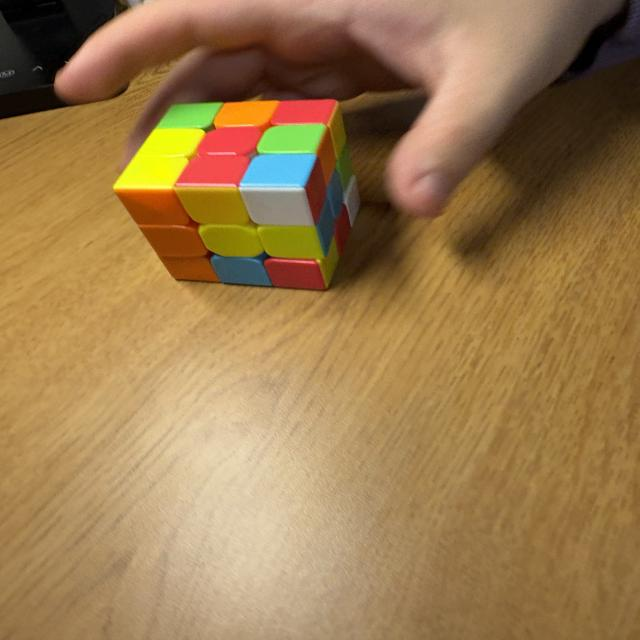Rubiks Cube: (112, 100, 362, 292)
